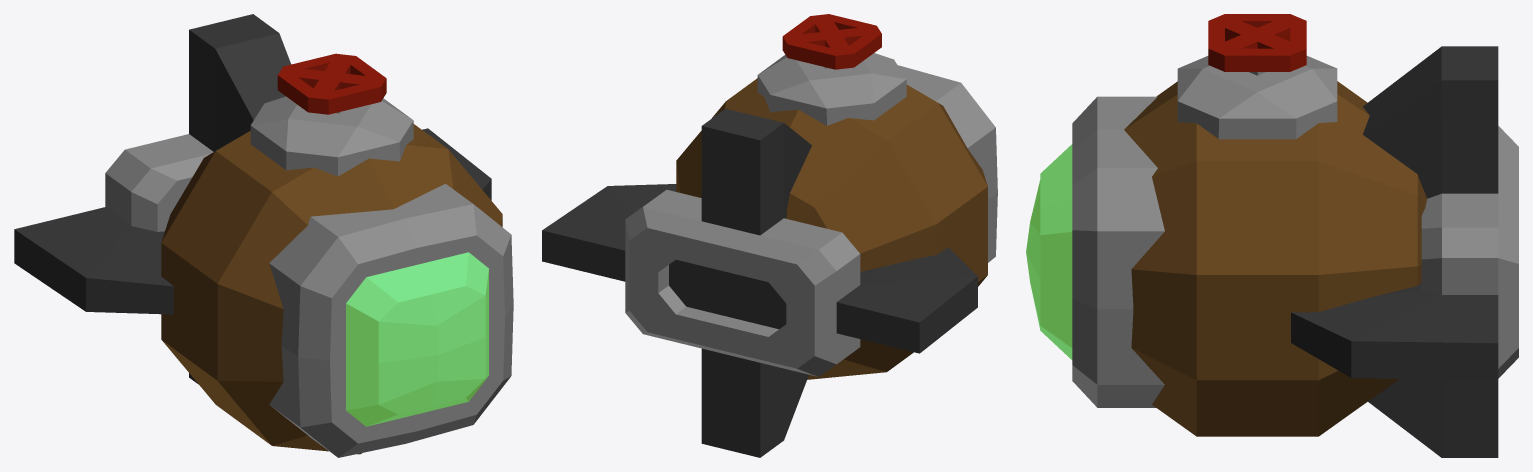
The model's file is Pod.fbx.
3 renders of one model, left to right at view 1: azimuth 30°, elevation 25°; view 2: azimuth 150°, elevation 25°; view 3: azimuth 270°, elevation 25°, orthographic. The views are drawn at different scales.
Visible parts, largest first — view 1: PodSolo; view 2: PodSolo; view 3: PodSolo.
Boxes of the visible parts, x1,y1,x2,y2 form: PodSolo: (14,14,513,457); PodSolo: (542,14,997,457); PodSolo: (1026,14,1518,457).
Bounding box in the file's own units: 525 × 454 × 499.
